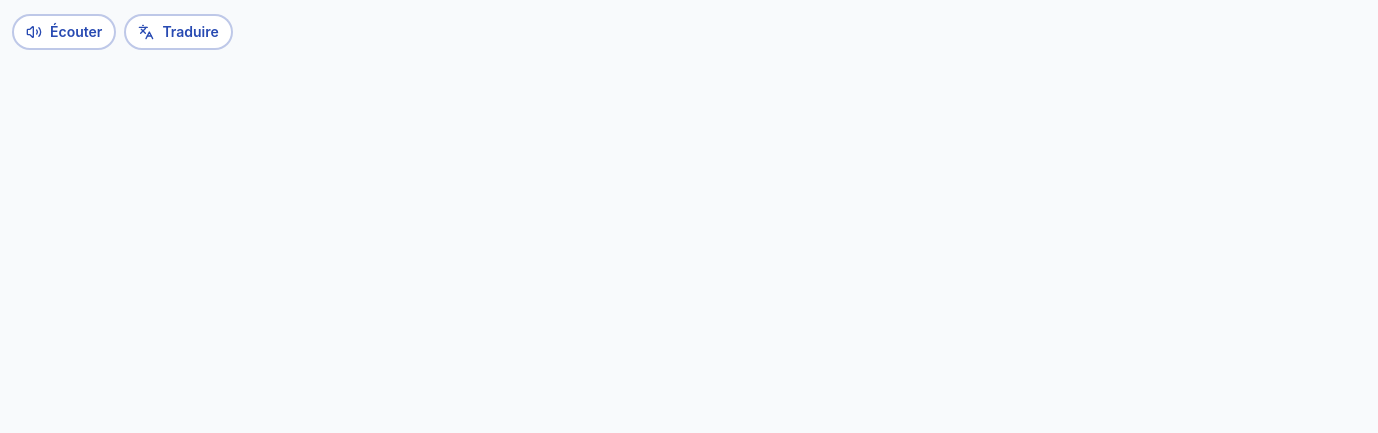
Test case: Question assistance rules › opens and closes French without translation service
The width and height of the screenshot is (1378, 433).
Expected: the text "Pour combien d’années le Président de la République est-il élu ?" is not shown
What coordinates should you click on to do the following:
click the button "Traduire"
I would click on:
 (179, 32)
Its box is [124,14,233,50].
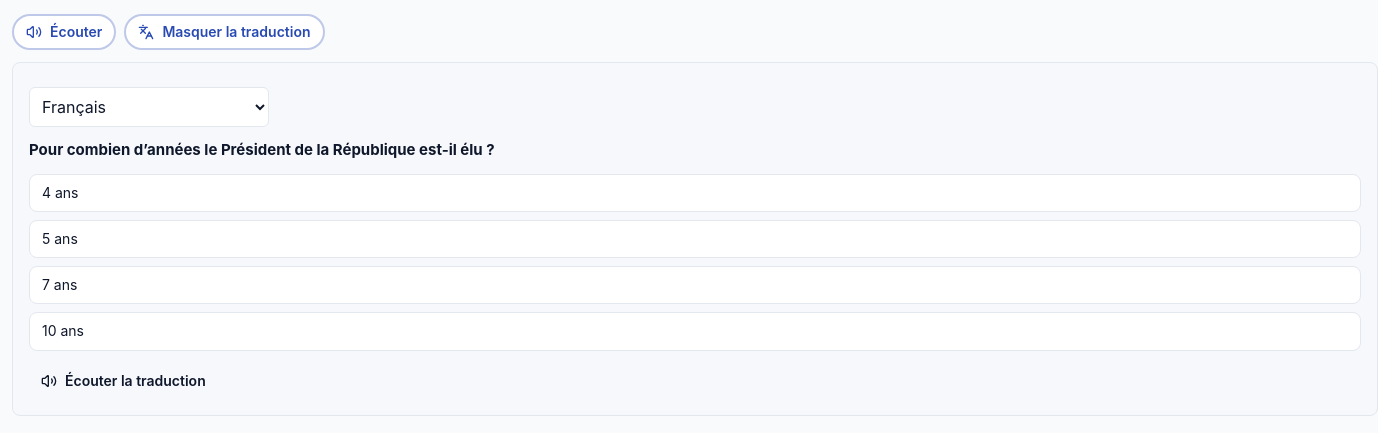
Expected: the text "Pour combien d’années le Président de la République est-il élu ?" is shown, [29,140,495,159]
What coordinates should you click on to do the following:
click the button "Masquer la traduction"
I would click on:
 (224, 32)
Its box is [124,14,324,50].
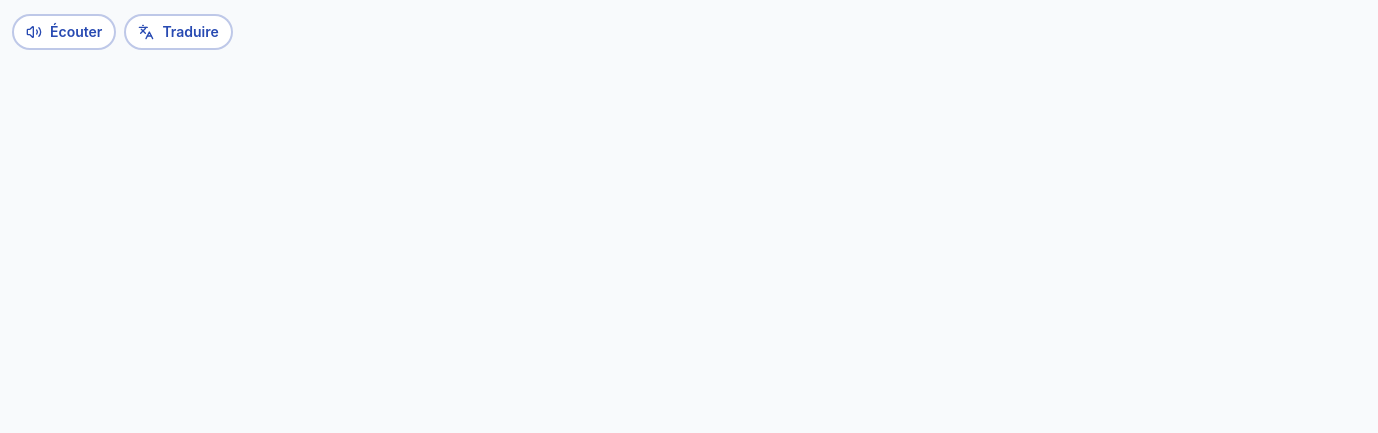
Expected: the text "Pour combien d’années le Président de la République est-il élu ?" is gone
